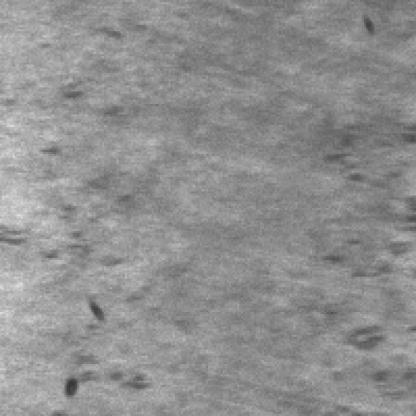rolled-in_scale: (48, 21, 158, 397), (304, 102, 416, 407)
